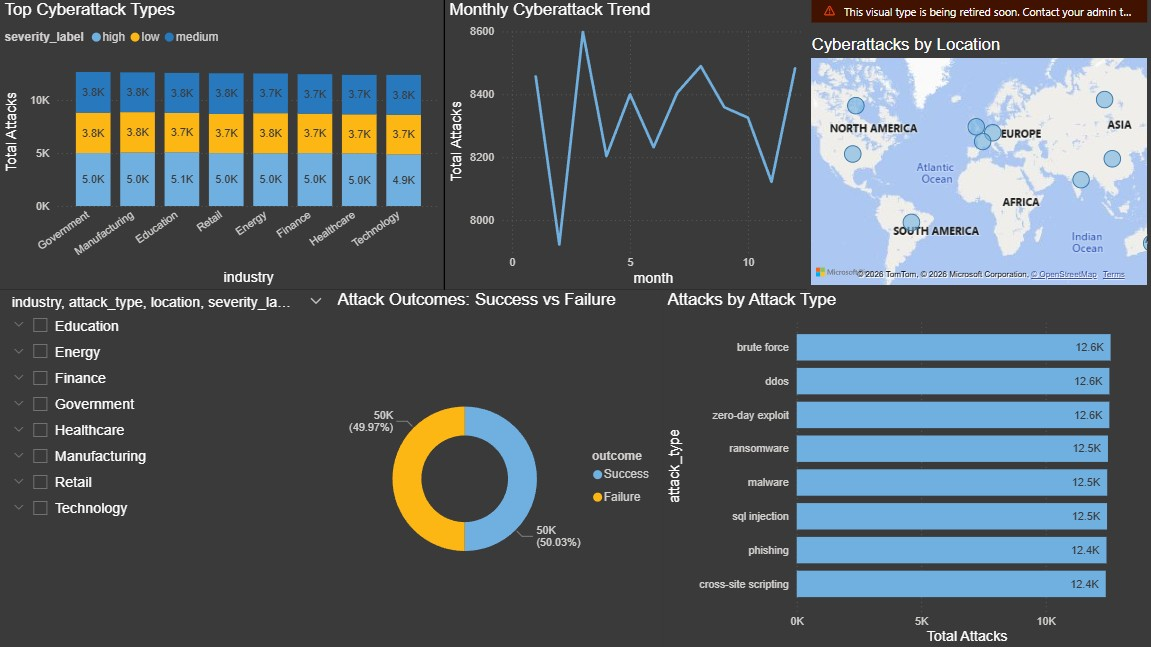

What the dashboard file says about the page in this screenshot:
{"tool":"powerbi","page":{"name":"Page 1","canvas":[1280,720],"ordinal":0},"visuals":[{"type":"clusteredBarChart","title":"Attacks by Attack Type","fields":{"Category":["cybersecurity_synthesized_data_cleaned.attack_type"],"Y":["cybersecurity_synthesized_data_cleaned.Total Attacks"]},"box":[736.7,321.7,543.3,398.3],"z":0},{"type":"columnChart","title":"Top Cyberattack Types","fields":{"Category":["cybersecurity_synthesized_data_cleaned.industry"],"Y":["cybersecurity_synthesized_data_cleaned.Total Attacks"],"Series":["cybersecurity_synthesized_data_cleaned.severity_label"]},"box":[0,0,493.3,321.7],"z":1000},{"type":"lineChart","title":"Monthly Cyberattack Trend","fields":{"Y":["cybersecurity_synthesized_data_cleaned.Total Attacks"],"Category":["cybersecurity_synthesized_data_cleaned.month"]},"box":[494,0,404,322],"z":2000},{"type":"donutChart","title":"Attack Outcomes: Success vs Failure","fields":{"Category":["cybersecurity_synthesized_data_cleaned.outcome"],"Y":["cybersecurity_synthesized_data_cleaned.Total Attacks"]},"box":[370,321.7,366.7,398.3],"z":3000},{"type":"map","title":"Cyberattacks by Location","fields":{"Category":["cybersecurity_synthesized_data_cleaned.location"],"Size":["cybersecurity_synthesized_data_cleaned.Total Attacks"]},"box":[896.7,0,383.3,321.7],"z":4000},{"type":"slicer","fields":{"Values":["cybersecurity_synthesized_data_cleaned.industry","cybersecurity_synthesized_data_cleaned.attack_type","cybersecurity_synthesized_data_cleaned.location","cybersecurity_synthesized_data_cleaned.severity_label"]},"box":[0,321.7,370,398.3],"z":5000}]}

Visuals, with their boxes in screenshot pixels (x1, y1, x2, y2), scaled from the page's 1280x720 canvas onto the 1151x647 screenshot:
"Attacks by Attack Type" clusteredBarChart: x1=662, y1=289, x2=1150, y2=646
"Top Cyberattack Types" columnChart: x1=0, y1=0, x2=444, y2=289
"Monthly Cyberattack Trend" lineChart: x1=444, y1=0, x2=807, y2=289
"Attack Outcomes: Success vs Failure" donutChart: x1=333, y1=289, x2=662, y2=646
"Cyberattacks by Location" map: x1=806, y1=0, x2=1150, y2=289
slicer - cybersecurity_synthesized_data_cleaned.industry x cybersecurity_synthesized_data_cleaned.attack_type: x1=0, y1=289, x2=333, y2=646
